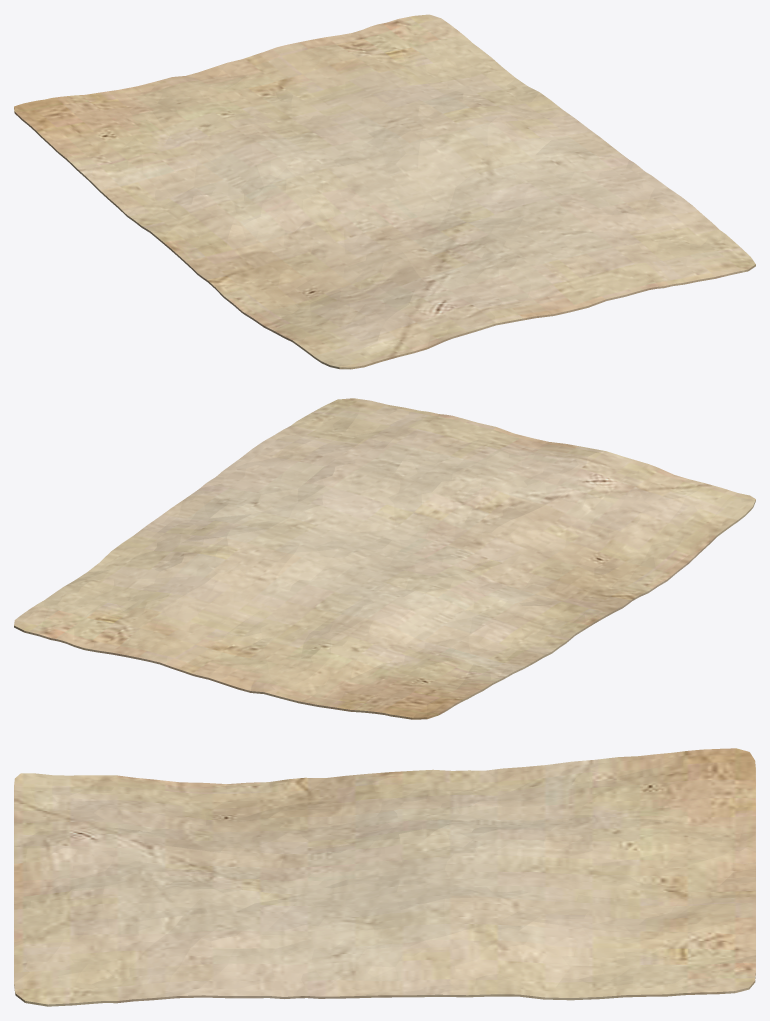
Rendered from journalPage2.gltf.
The picture shows the model from 3 angles, top to bottom: view 1: azimuth 30°, elevation 25°; view 2: azimuth 150°, elevation 25°; view 3: azimuth 270°, elevation 25°; orthographic projection. The views are drawn at different scales.
Parts seen in each view (by area): view 1: paper; view 2: paper; view 3: paper.
Boxes of the visible parts, x1=… form: paper: x1=14, y1=14, x2=755, y2=369; paper: x1=14, y1=398, x2=755, y2=719; paper: x1=14, y1=748, x2=755, y2=1006.
Size of what is drawn, in the model's own units: 0.4213 by 0.0325 by 0.5694.
1 material, 1 textured.
